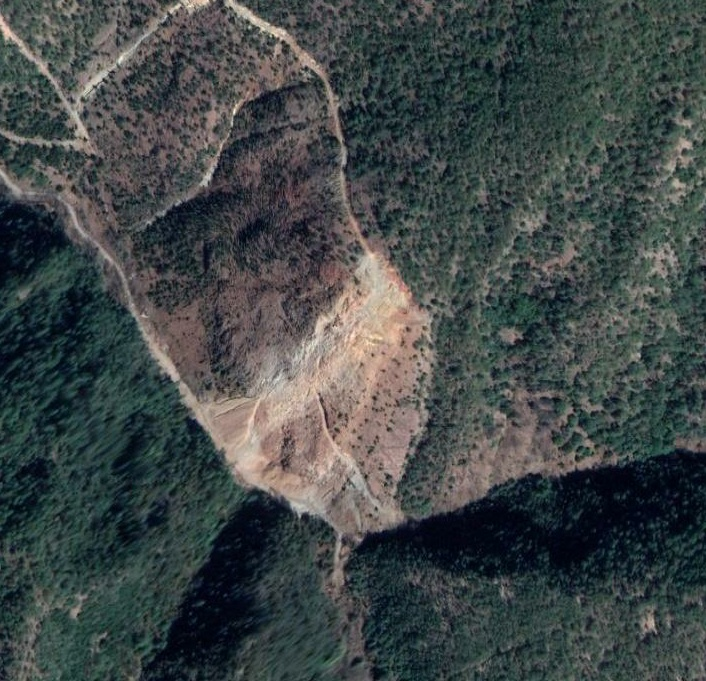slope: (198, 245, 436, 592)
